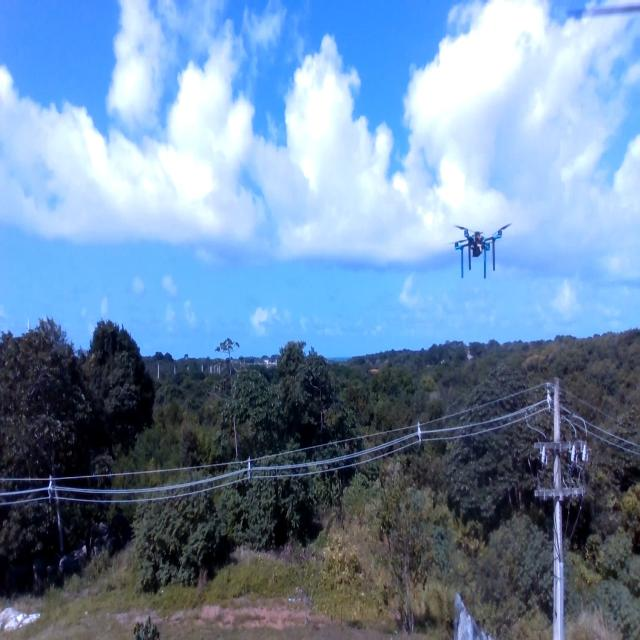-uav-: (442, 207, 514, 289)
